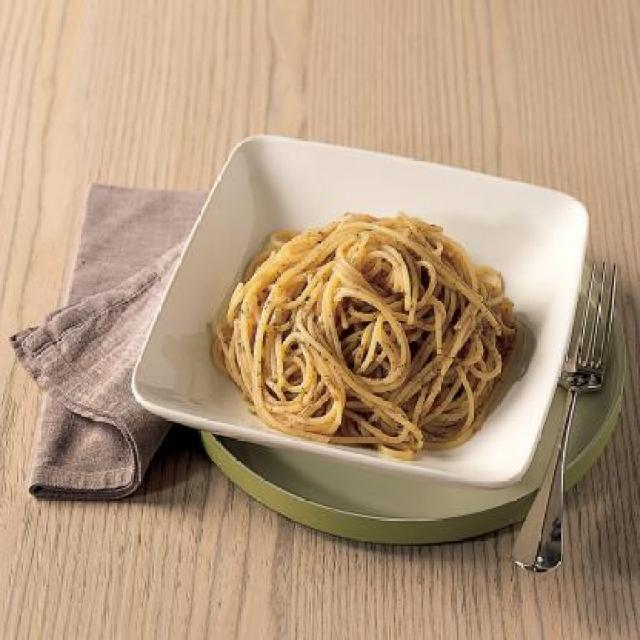Oil pasta: (204, 176, 553, 498)
